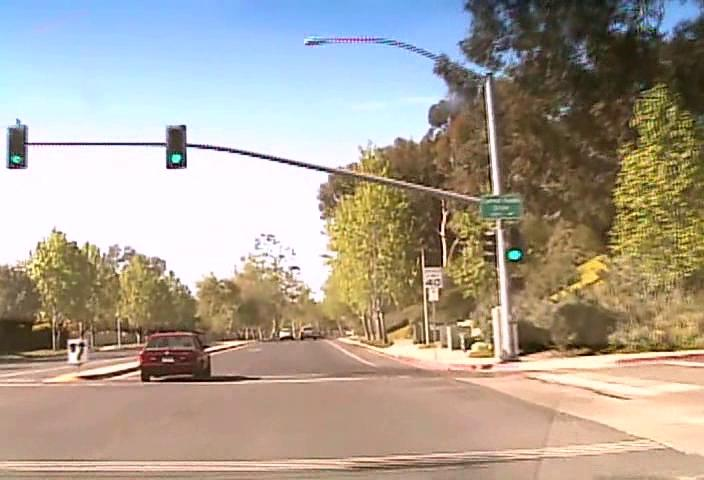speedLimit40: (422, 266, 443, 288)
